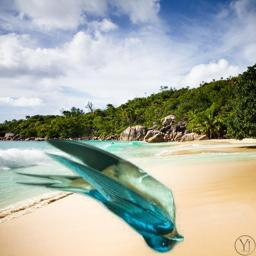Swallow: (12, 137, 184, 254)
